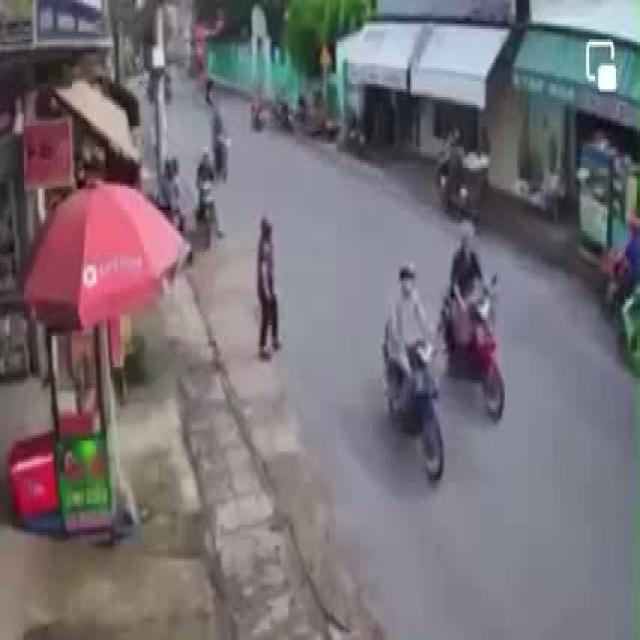normal: (376, 212, 509, 495), (191, 98, 234, 257)
